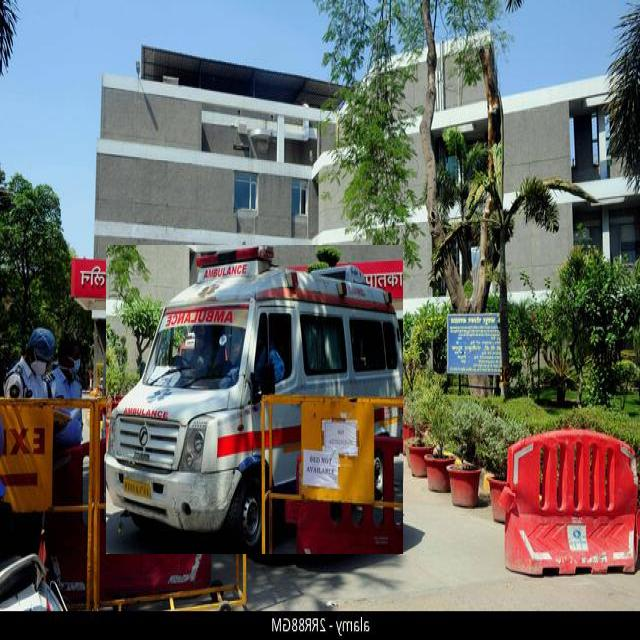emergency: (106, 245, 402, 554)
